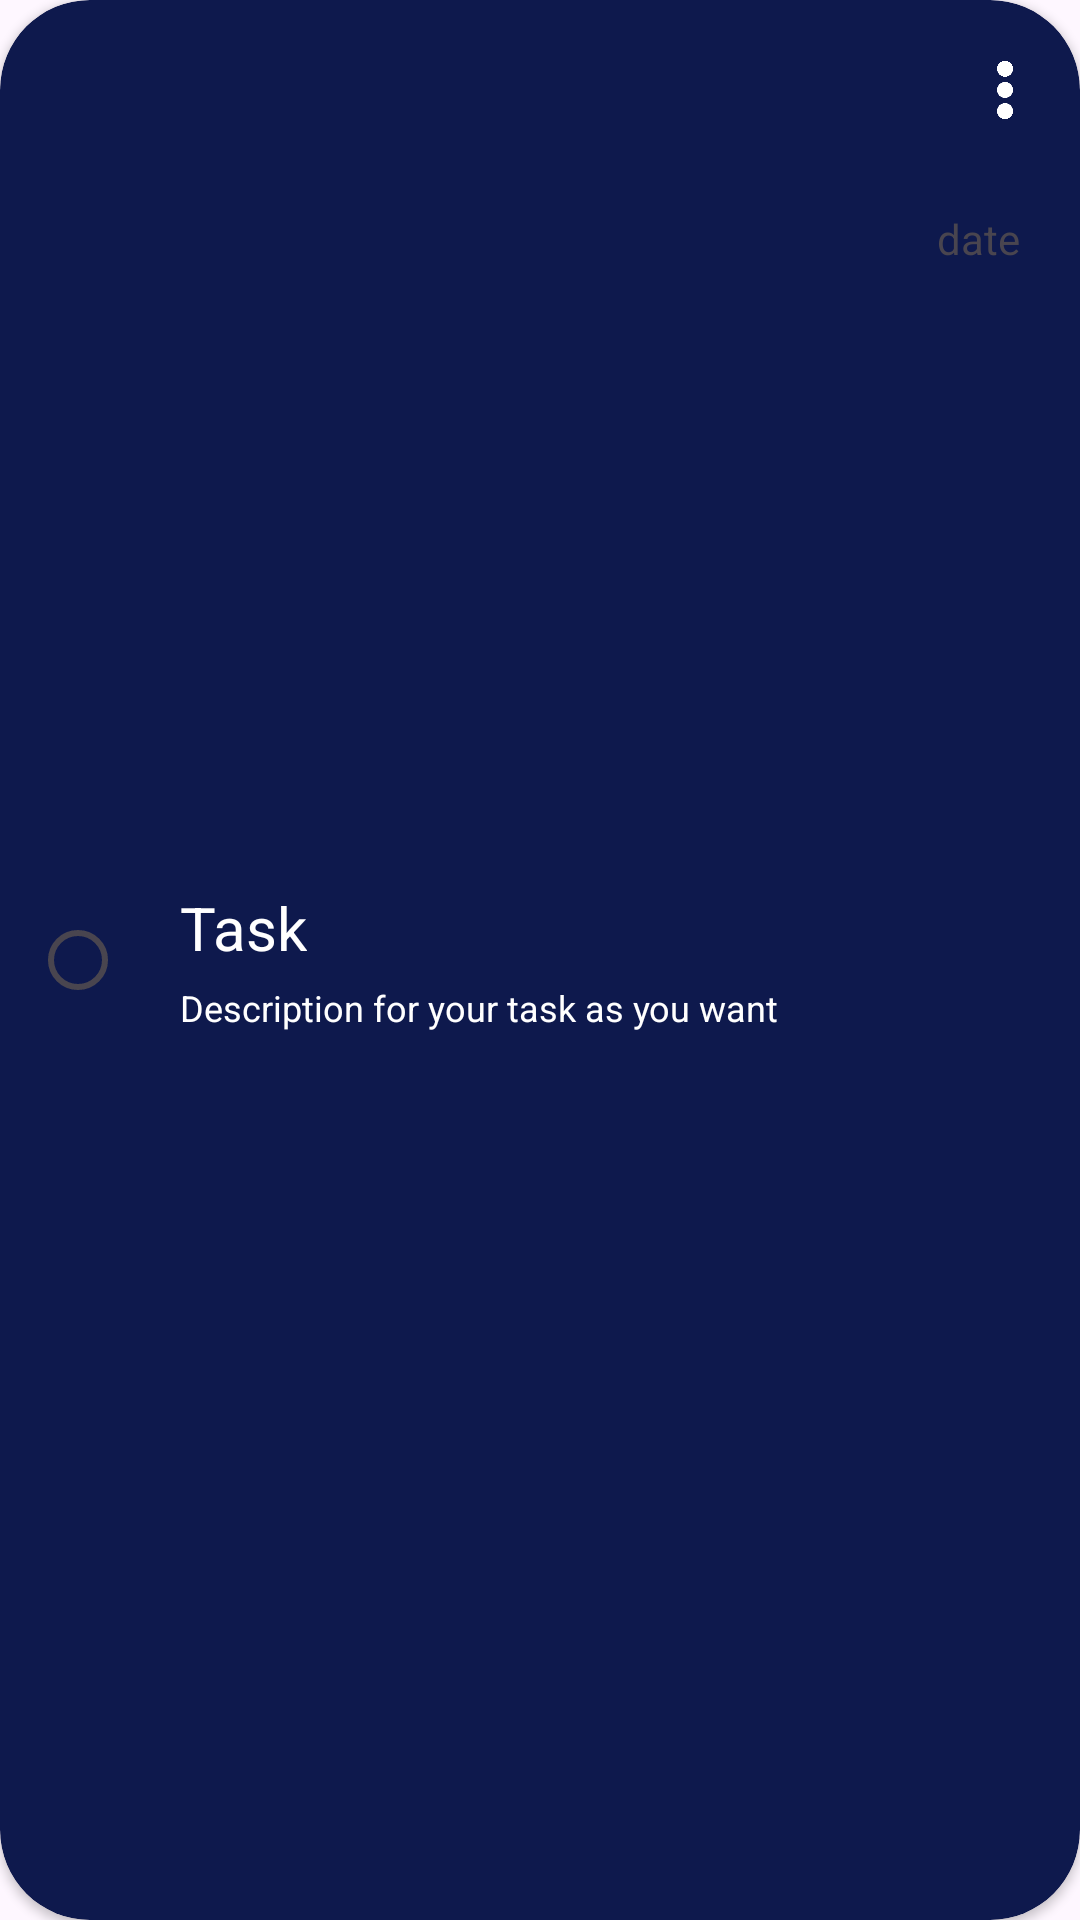

Icon bounding boxes for this 1080w x 1920h phone screenshot, format (x1, y1, x2, y2):
parametre: (997, 61, 1013, 119)
